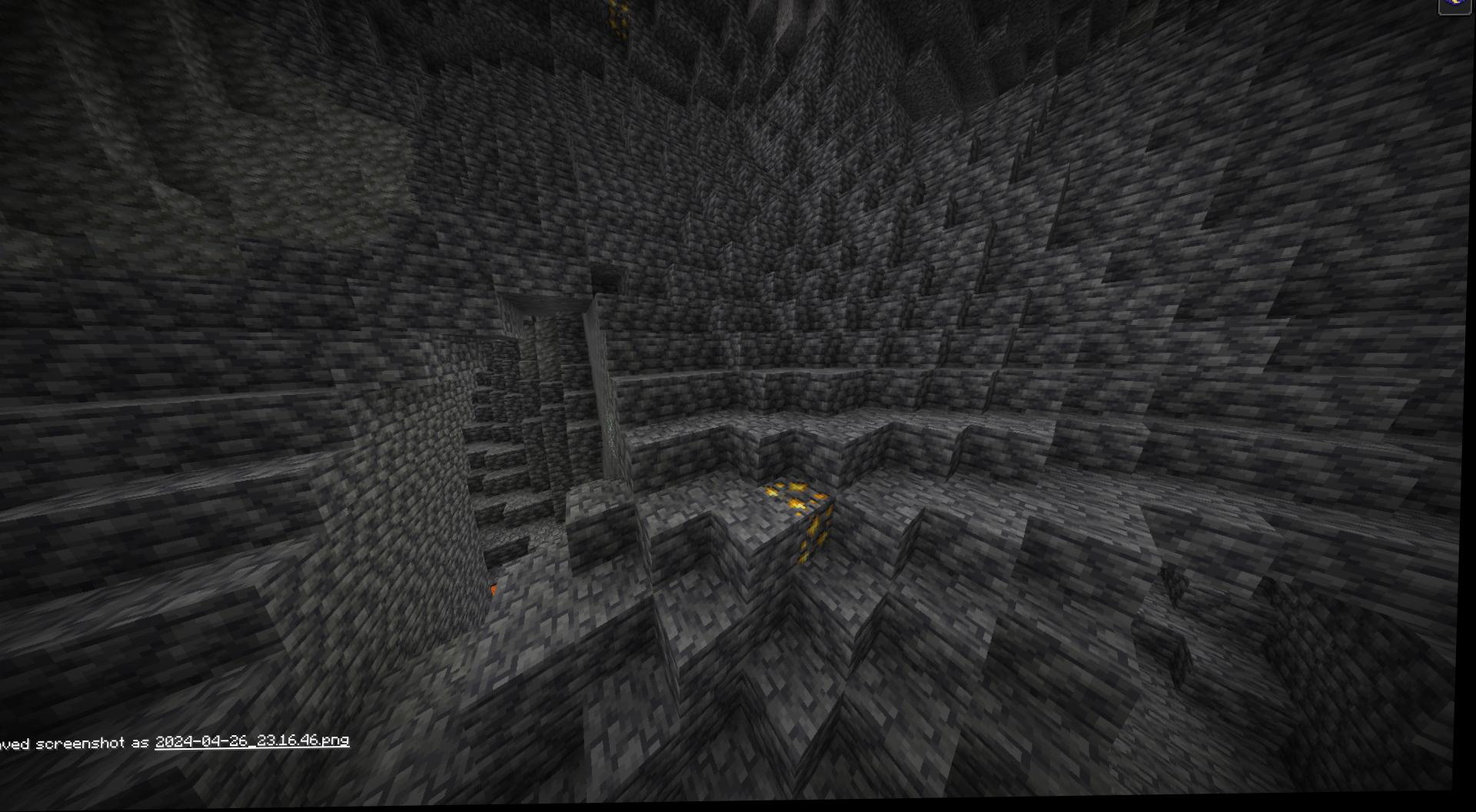gold ore: (765, 475, 833, 520), (803, 510, 837, 566), (602, 0, 634, 35)
